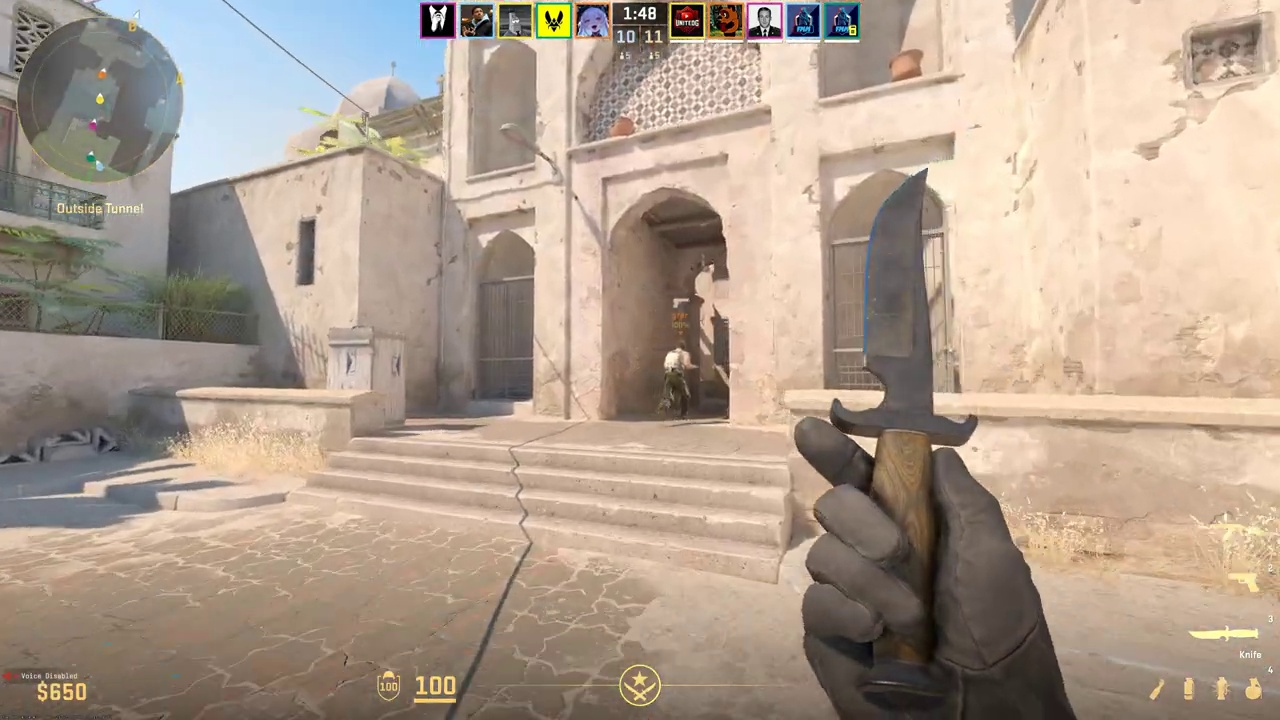Terrorist: (663, 340, 691, 419)
